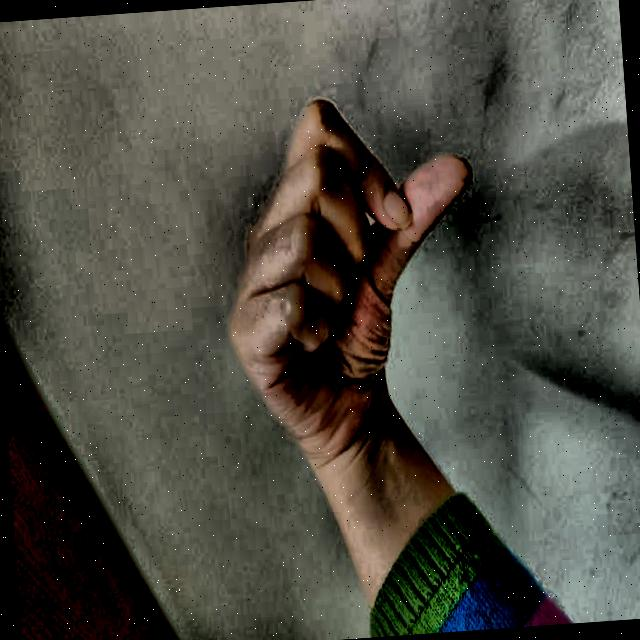Ay: (188, 65, 516, 477)
